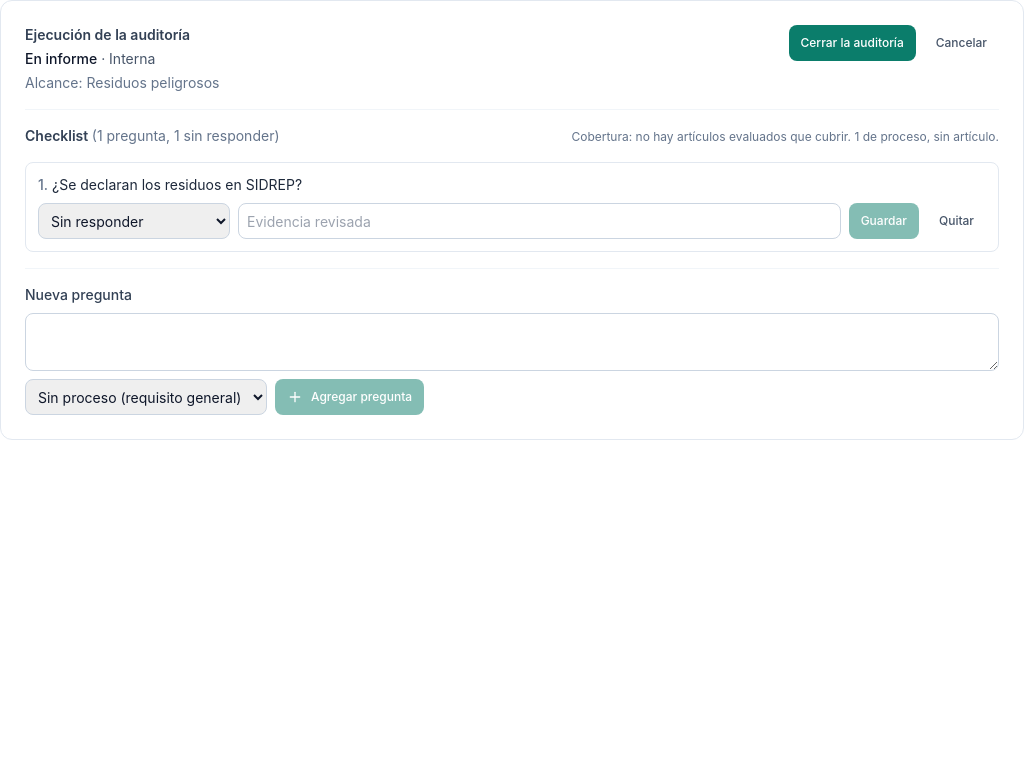
Test: lo que la revisión del 19-sep encontró › un doble clic en «Cerrar» no salta la confirmación
Expected: the text "¿Se declaran los residuos en SIDREP?" is shown, [52,176,302,193]
Double-click the button "Cerrar la auditoría": {"x": 852, "y": 43} [788,25,916,61]
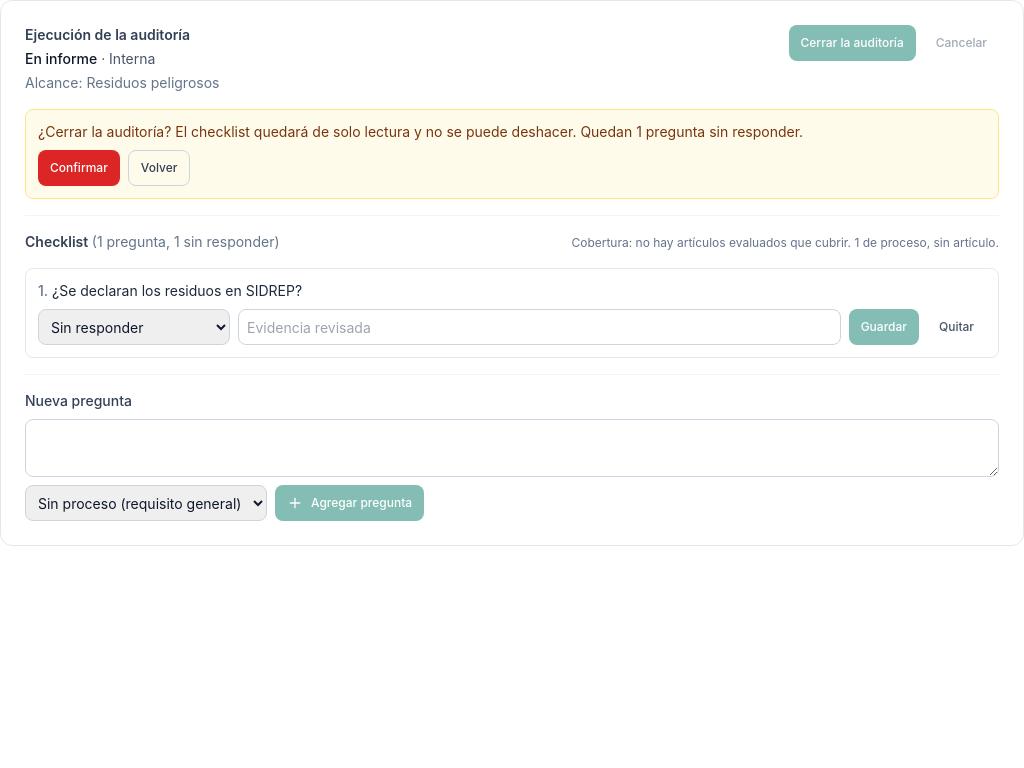
Result: the dialog is shown at [25,109,999,199]
Result: the button "Cerrar la auditoría" is disabled at [788,25,916,61]
